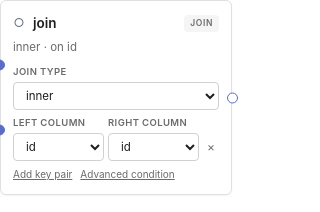
Test: Join card — join types come from the backend spec (UX-05) › keeps a user in Advanced while a raw condition becomes representable
Click the button "Advanced condition": [128, 174] box [80,167,175,182]
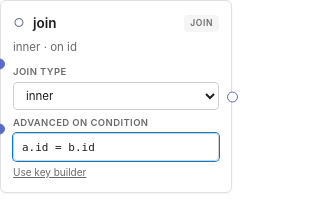
Replace the text in the field labelled "advanced ON condition" with "a._rowid = b.original_row_id": [116, 147] box [13,133,219,161]
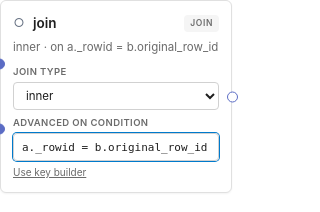
Click the button "Use key builder": [50, 172] box [13,165,86,180]
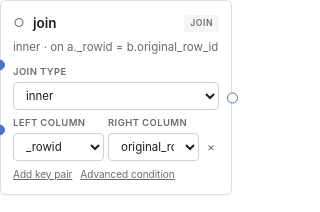
expect the dropdown named "Left key 1" shows "_rowid": met, box [13,133,104,161]
